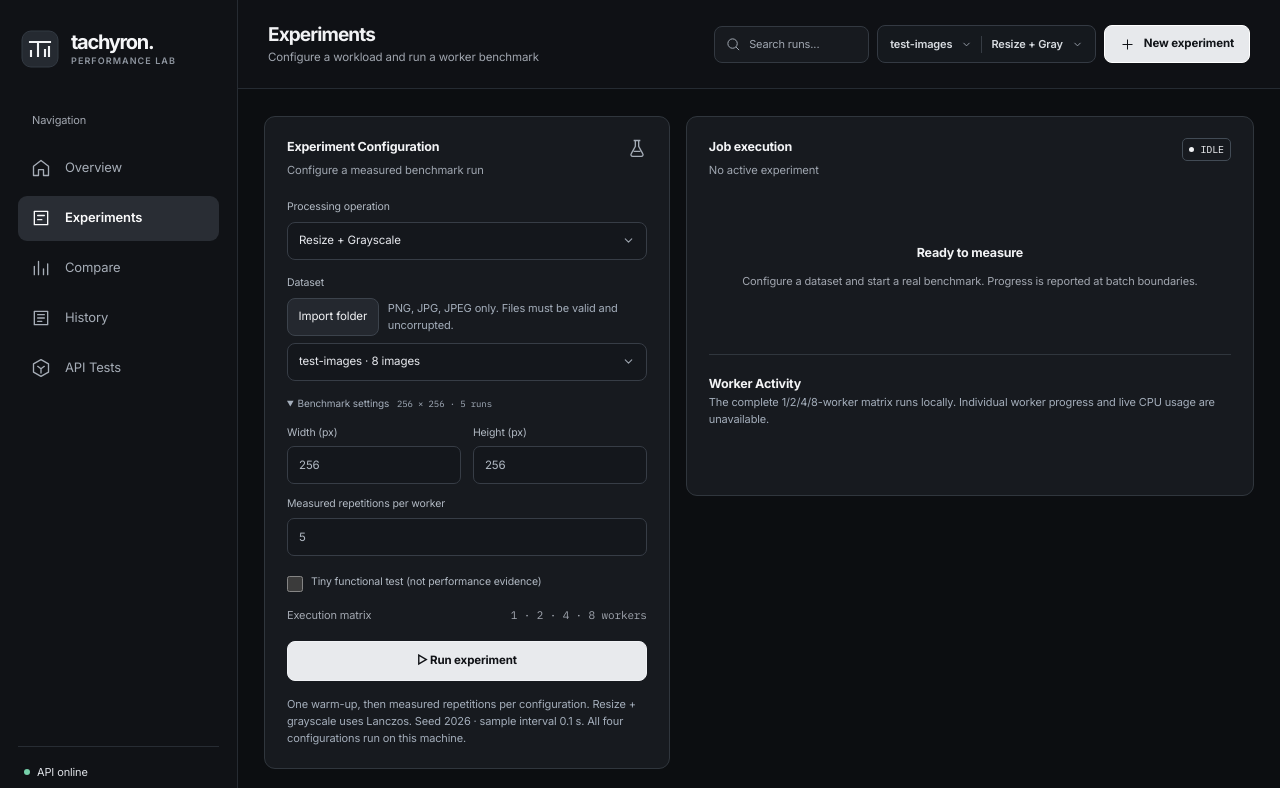
Scenario: omits toast Retry for a rejected configuration that requires user correction
The image size is (1280, 788).
Check: the dropdown named "Dataset" holds "test-images", box left=287, top=343, right=647, bottom=381
Click the button "▷ Run experiment": click(467, 661) left=287, top=641, right=647, bottom=681
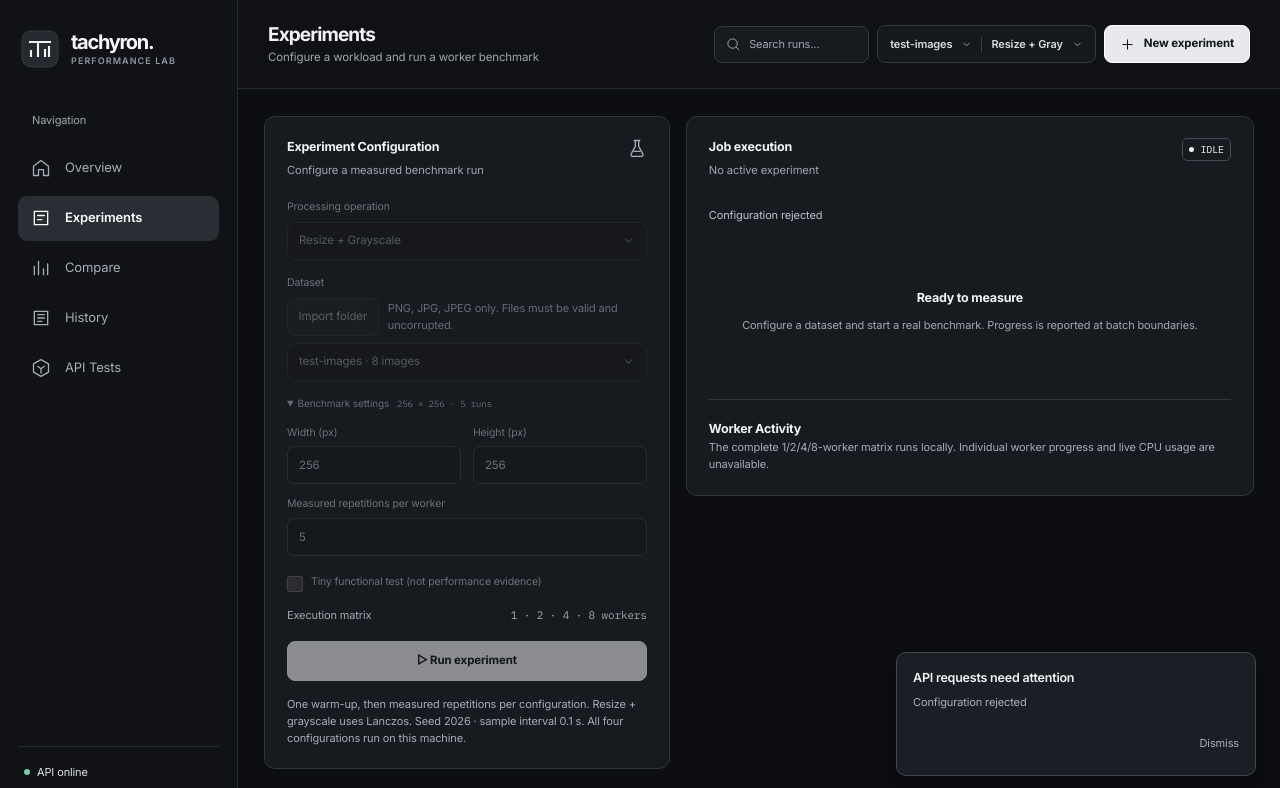
Check: the button "Dismiss" is shown, box left=1200, top=727, right=1239, bottom=759
Check: the text "Configuration rejected" below "No active experiment" is shown, box left=709, top=208, right=822, bottom=222
